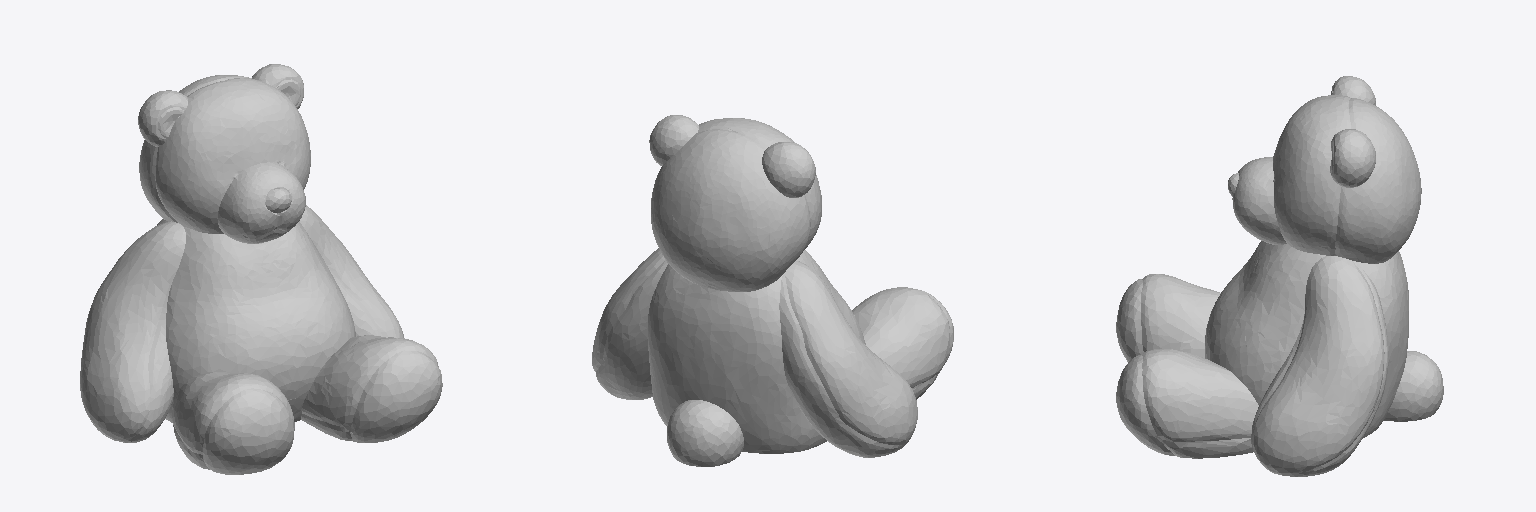
File: monzaemon.obj
The picture shows the model from 3 angles: view 1: azimuth 30°, elevation 25°; view 2: azimuth 150°, elevation 25°; view 3: azimuth 270°, elevation 25°; orthographic projection.
Parts seen in each view (by area): view 1: bear_small; view 2: bear_small; view 3: bear_small.
Boxes of the visible parts, box(x1,y1,x2,y2) form: bear_small: box(80, 64, 442, 474); bear_small: box(592, 115, 953, 466); bear_small: box(1116, 76, 1443, 476).
Bounding box in the file's own units: 76.4 × 72.5 × 71.